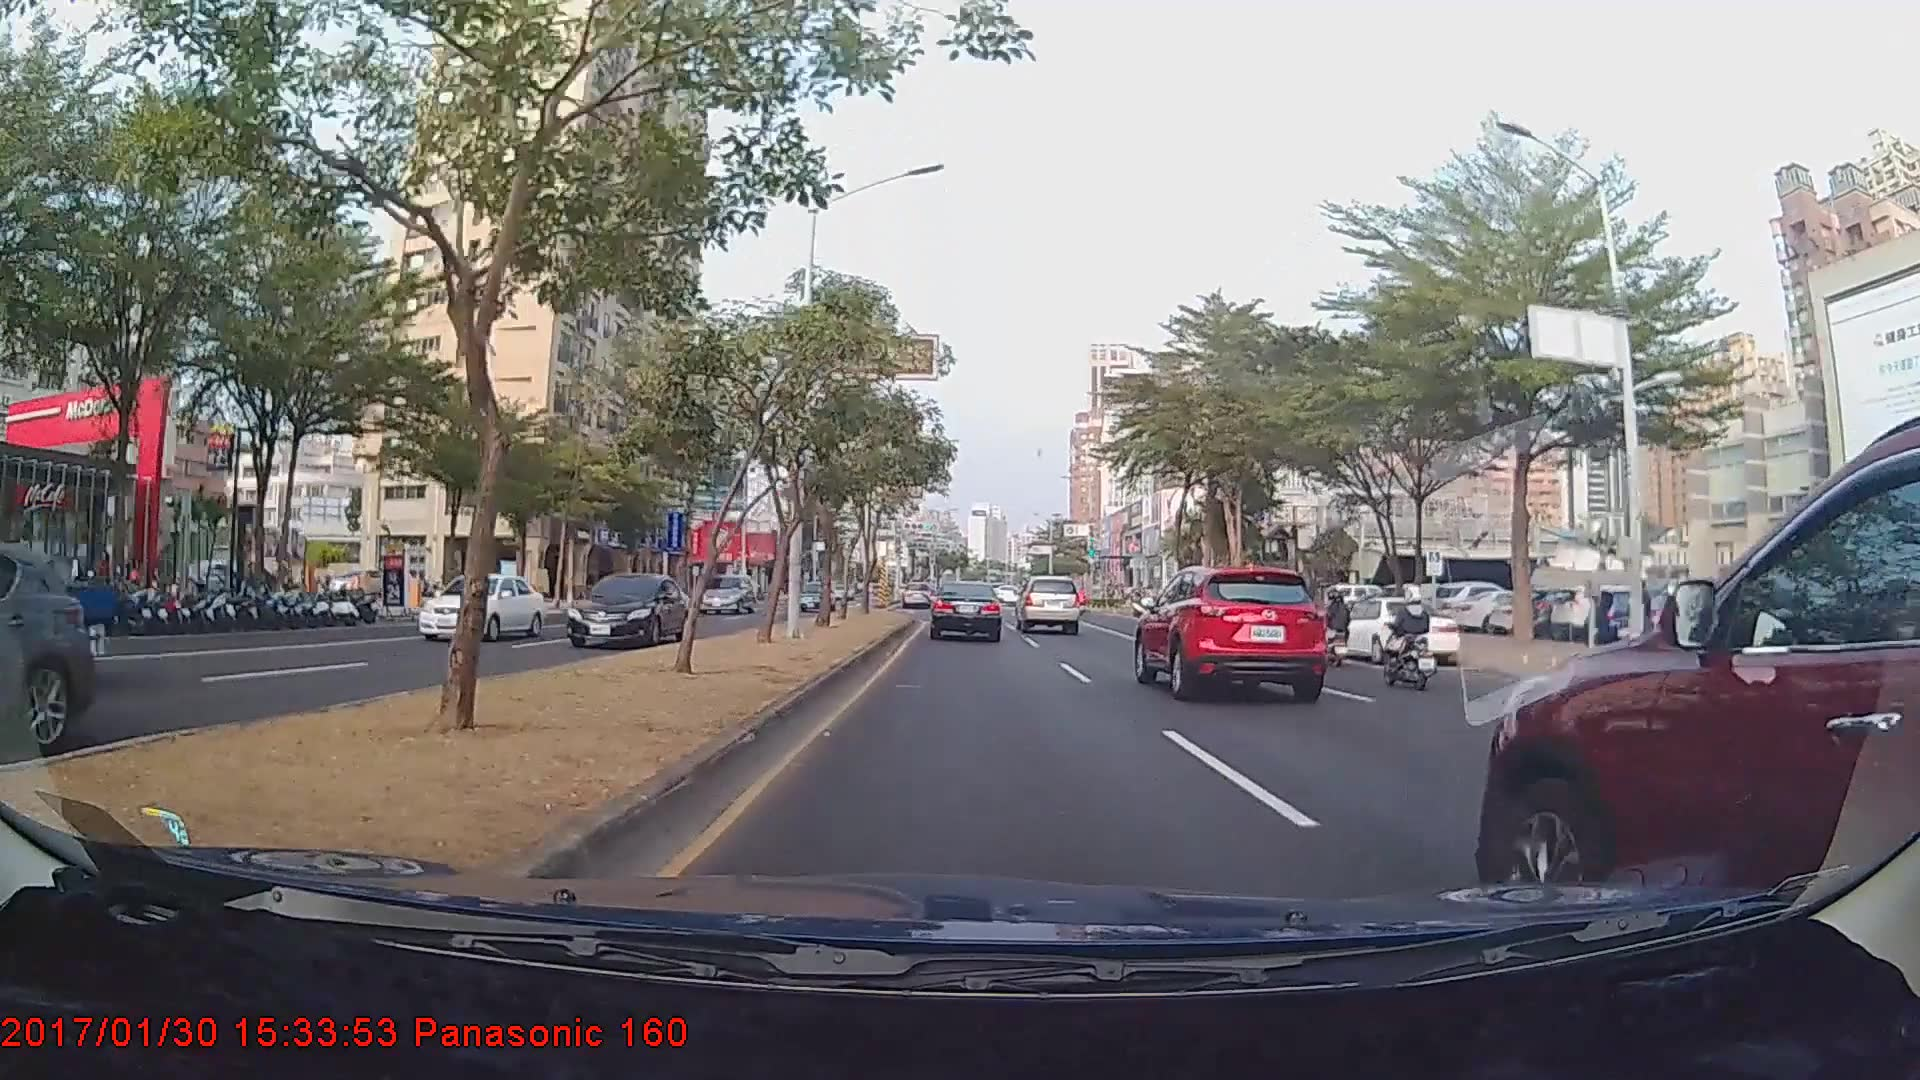rider: (1373, 585, 1443, 692)
vehicle: (1477, 405, 1920, 959), (1130, 559, 1329, 701), (0, 535, 99, 777), (564, 569, 694, 644), (1327, 595, 1459, 665), (417, 572, 543, 640), (928, 581, 1003, 642), (1016, 574, 1081, 634), (696, 572, 759, 614), (790, 579, 835, 611), (900, 581, 934, 609)
